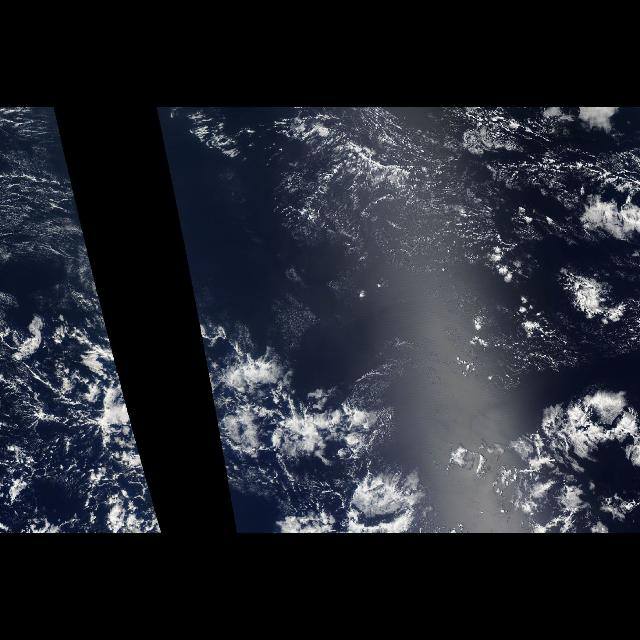Sugar: (1, 108, 98, 294)
